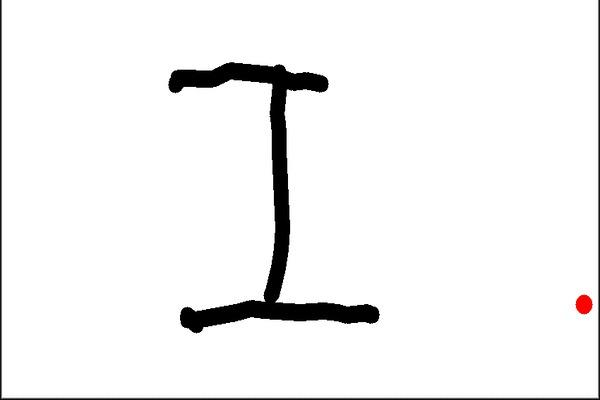i: (155, 51, 392, 343)
